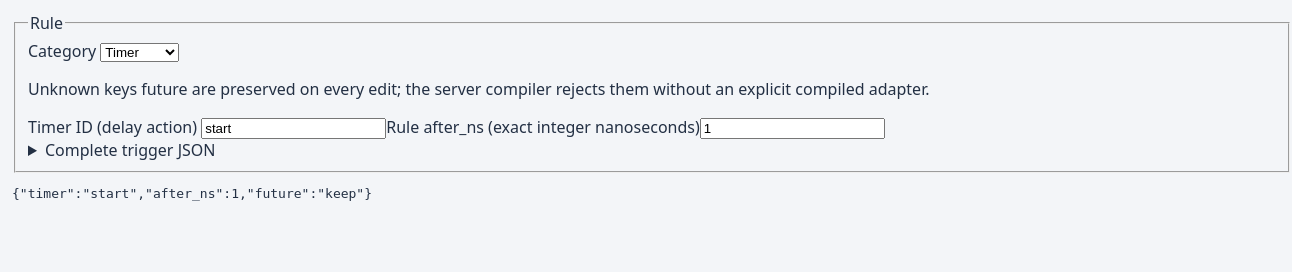
Test: reports invalid exact-nanosecond buffers and keeps large integers lossless
This screenshot has width=1292, height=272.
Replace the text in the field labelled "Rule after_ns (exact integer nanoseconds)" with "1.5" at x=792, y=128, box [700,118,885,139]
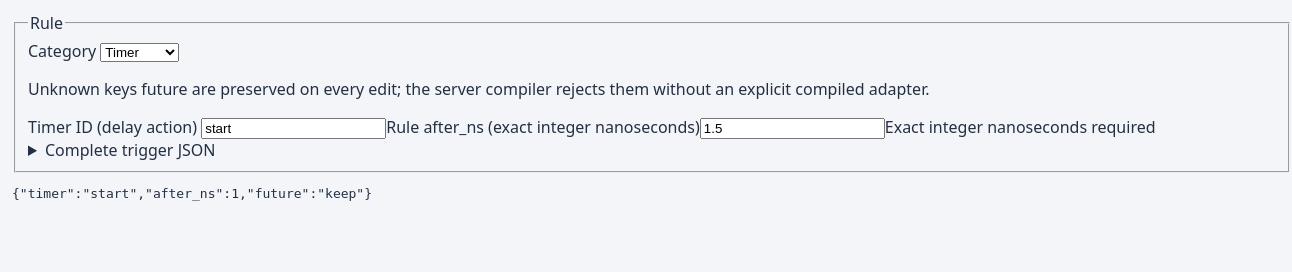
Expected: the text with test id "value" shows "\"after_ns\":1", [12,186,372,201]
Result: the message reads "Exact integer nanoseconds required" at [885,116,1156,138]
Replace the text in the field labelled "Rule after_ns (exact integer nanoseconds)" with "9007199254740993" at x=792, y=128, box [700,118,885,139]
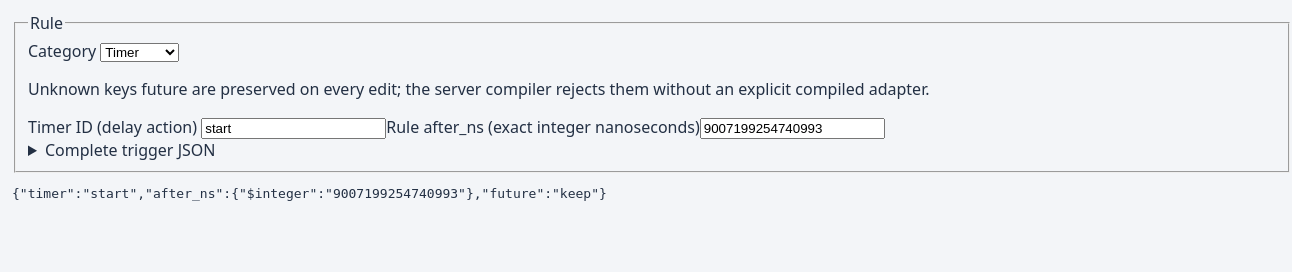
Result: the text with test id "value" shows "\"after_ns\":{\"$integer\":\"9007199254740993\"}" at [12,186,607,201]
Clear the field labelled "Rule after_ns (exact integer nanoseconds)" at x=792, y=128, box [700,118,885,139]
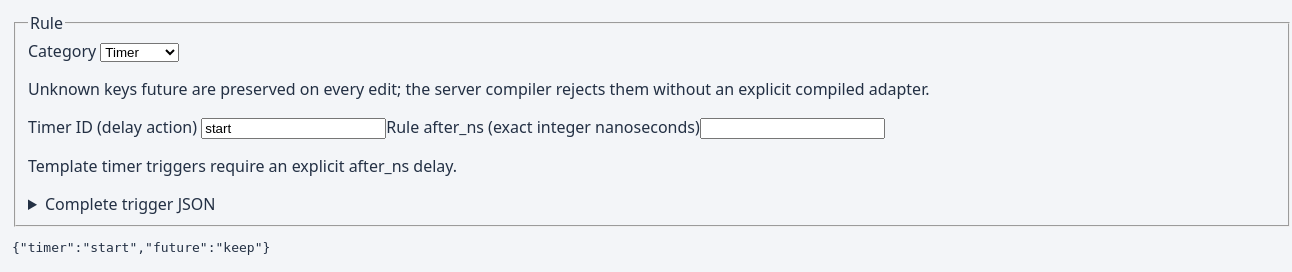
Result: the text with test id "value" reads "{\"timer\":\"start\",\"future\":\"keep\"}" at [12,240,270,255]
